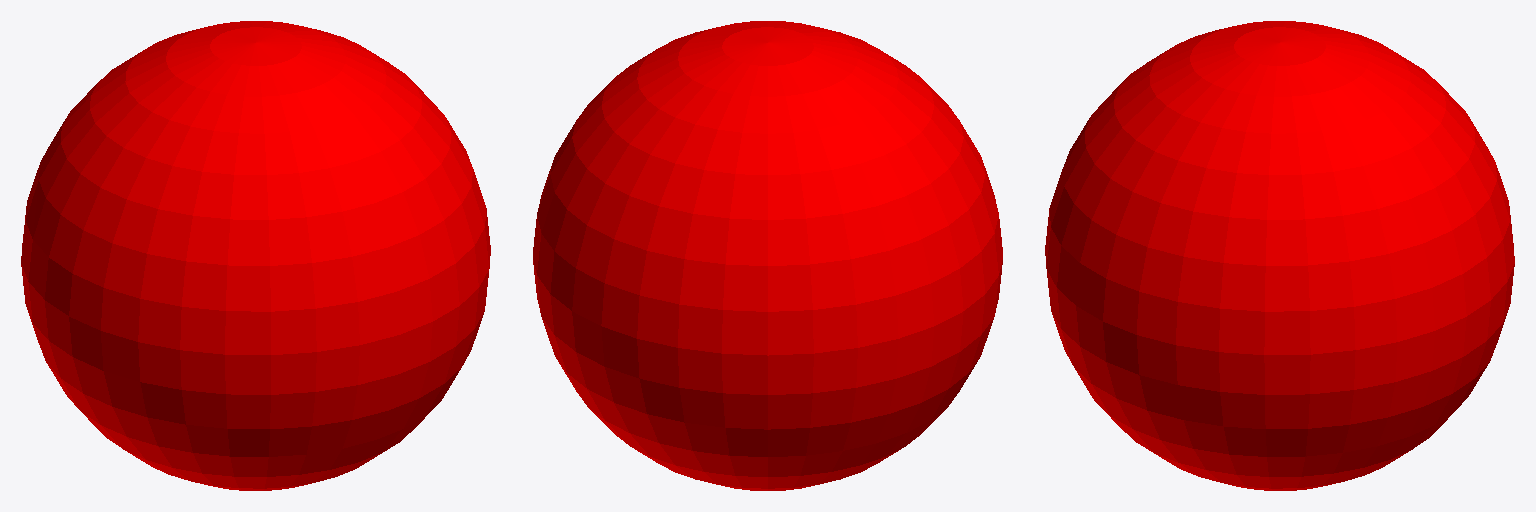
File: bullet.obj
The picture shows the model from 3 angles: view 1: azimuth 30°, elevation 25°; view 2: azimuth 150°, elevation 25°; view 3: azimuth 270°, elevation 25°; orthographic projection.
Visible parts, largest first — view 1: Sphere; view 2: Sphere; view 3: Sphere.
Part boxes in pixels (bbox=[...]): Sphere: bbox=[21, 21, 490, 490]; Sphere: bbox=[533, 21, 1002, 490]; Sphere: bbox=[1045, 21, 1514, 490].
Bounding box in the file's own units: 1.5 × 1.5 × 1.5.